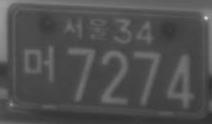2: (98, 48, 130, 106)
3: (110, 16, 134, 45)
4: (164, 51, 196, 109), (134, 18, 156, 47)
7: (130, 48, 163, 107), (65, 45, 98, 103)
머: (21, 43, 56, 84)
서울_O: (62, 14, 110, 42)
